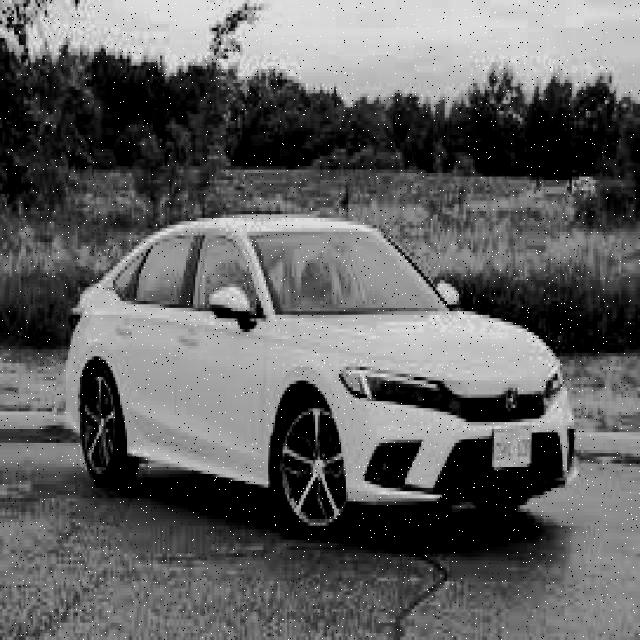Car: (46, 193, 588, 545)
